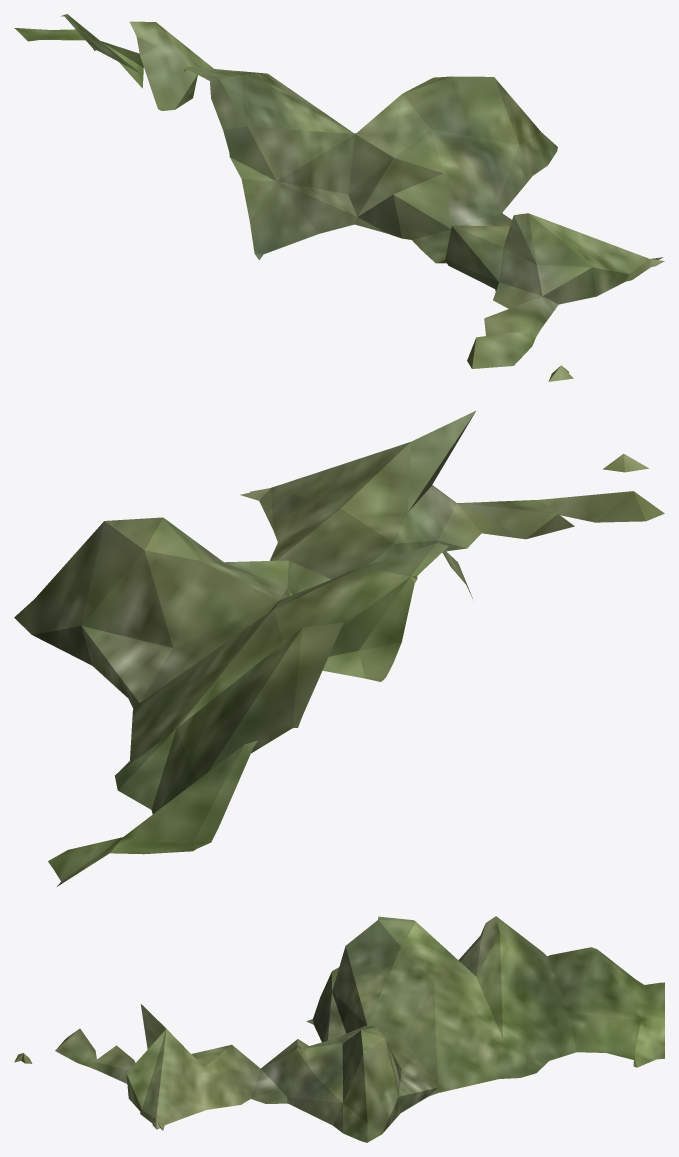
3 renders of one model, top to bottom at view 1: azimuth 30°, elevation 25°; view 2: azimuth 150°, elevation 25°; view 3: azimuth 270°, elevation 25°, orthographic. The views are drawn at different scales.
Size of the model in its own units: 2.26 by 0.9154 by 5.13.
Materials: 1 (1 with a texture image).
